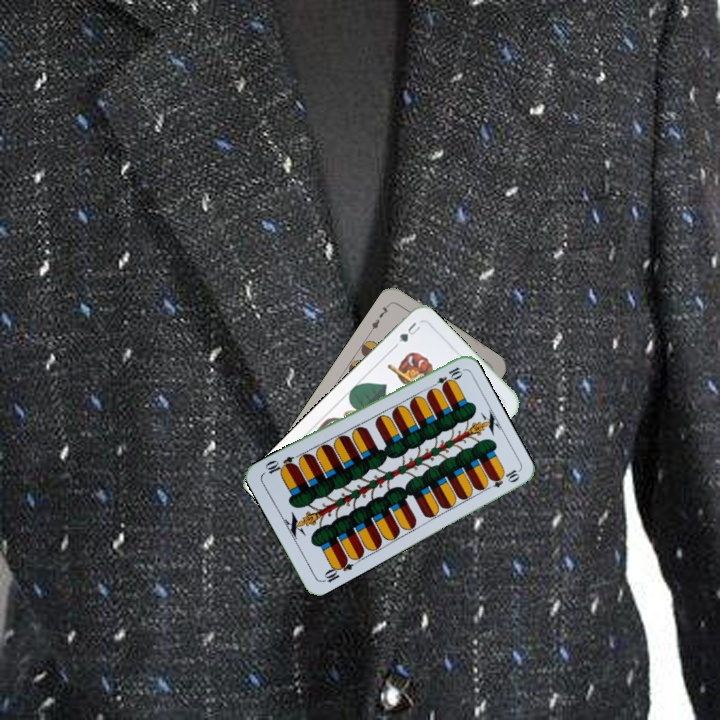E10: (318, 554, 356, 585), (427, 363, 465, 392)
E7: (366, 299, 393, 335)
GU: (390, 318, 423, 350)
